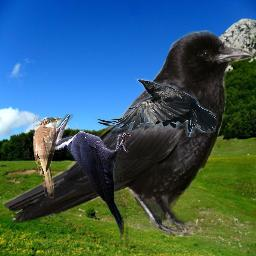Crow: (1, 30, 255, 237), (94, 78, 216, 137)
Cuckoo: (33, 117, 62, 198)
Woodpecker: (38, 114, 132, 246)
